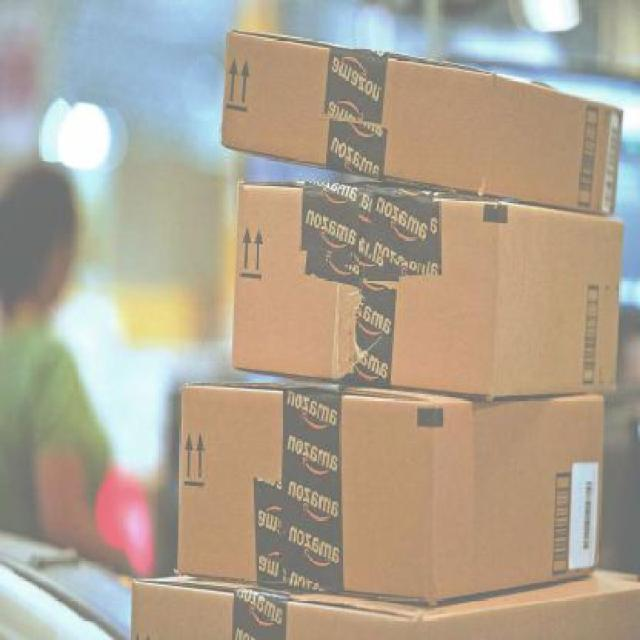cardboxes: (180, 378, 602, 604), (228, 166, 620, 406), (216, 25, 624, 220), (133, 567, 640, 640)
